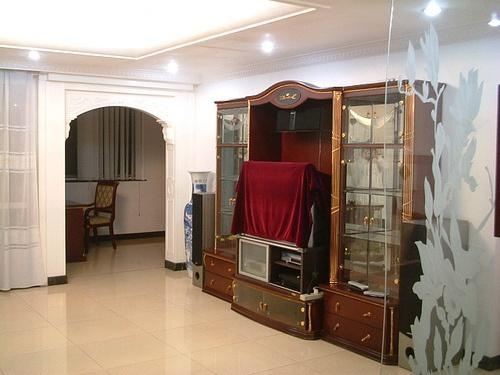chair: (83, 181, 120, 255)
